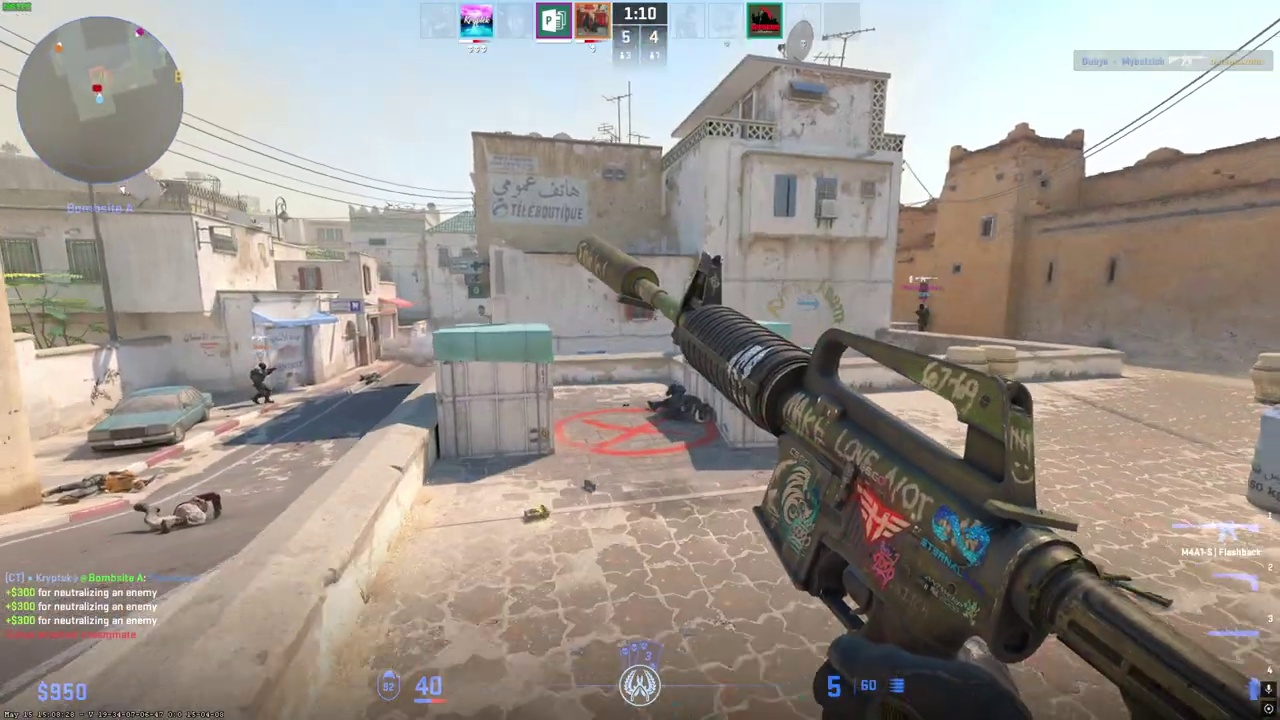CT: (250, 362, 274, 404), (915, 303, 930, 331)
